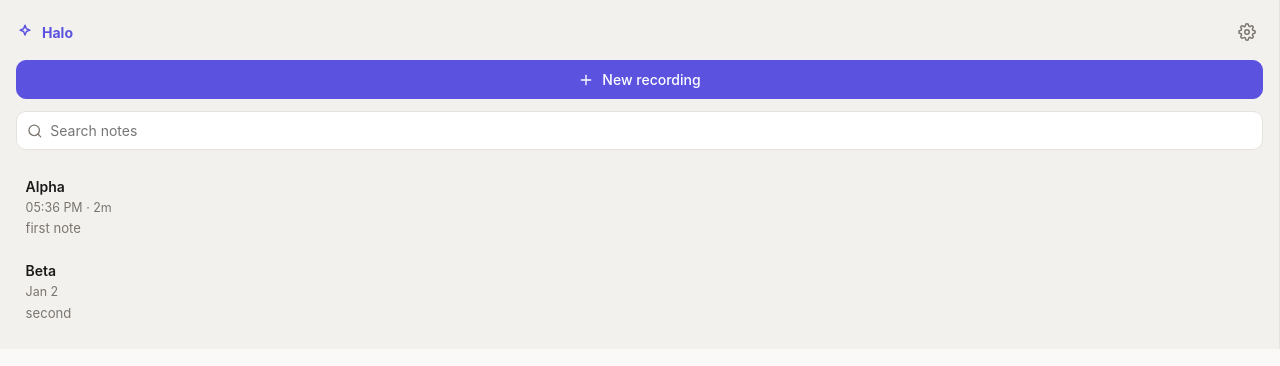
Sidebar › filters notes by search query
In the field with placeholder "Search notes": (651, 130) [50,112,1252,149], type "alpha"
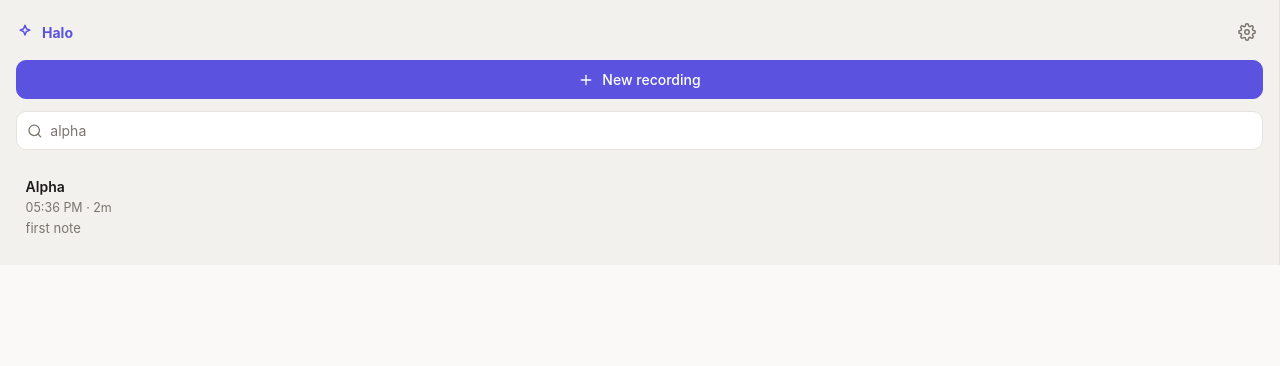
Expected: the text "Alpha" is shown, [26,176,65,197]
Result: the button "Beta" is gone
